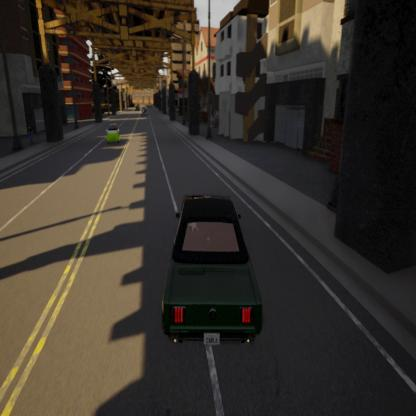Cars: (146, 174, 274, 384), (100, 114, 128, 152), (141, 104, 149, 119), (134, 102, 142, 115)
